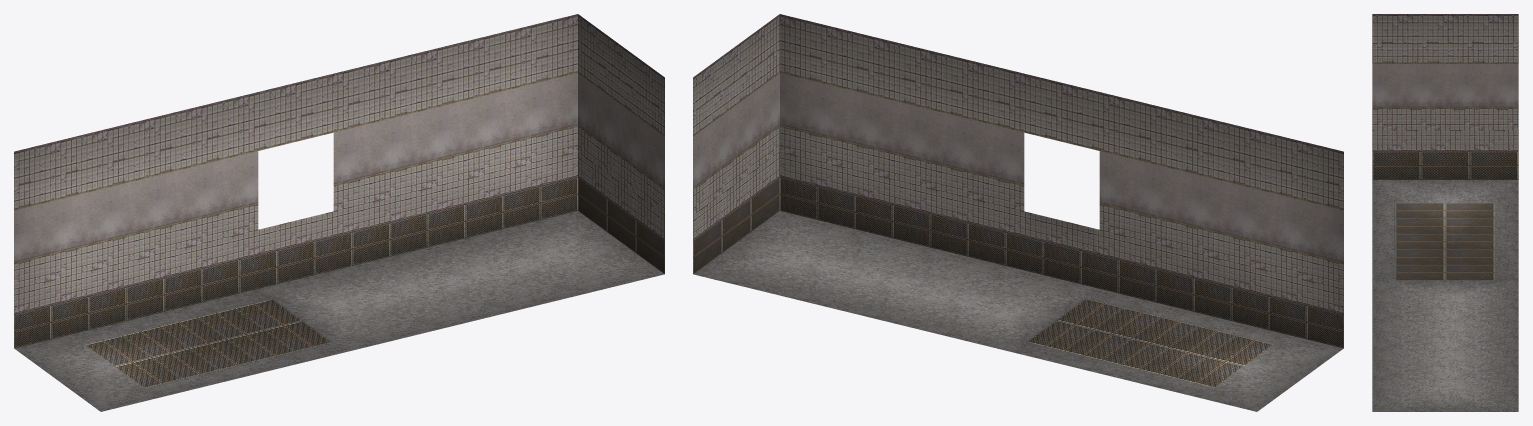
Rendered from M11Z2_SCUDHouse02.glb.
The picture shows the model from 3 angles, left to right: view 1: azimuth 30°, elevation 25°; view 2: azimuth 150°, elevation 25°; view 3: azimuth 270°, elevation 25°; orthographic projection. The views are drawn at different scales.
Parts seen in each view (by area): view 1: M11Z2_SCUDHOUSE02; view 2: M11Z2_SCUDHOUSE02; view 3: M11Z2_SCUDHOUSE02.
Boxes of the visible parts, x1=… form: M11Z2_SCUDHOUSE02: x1=14, y1=14, x2=664, y2=411; M11Z2_SCUDHOUSE02: x1=693, y1=14, x2=1343, y2=411; M11Z2_SCUDHOUSE02: x1=1372, y1=14, x2=1518, y2=411.
Bounding box in the file's own units: 30 × 10 × 8.
Materials: 4 (4 with a texture image).
